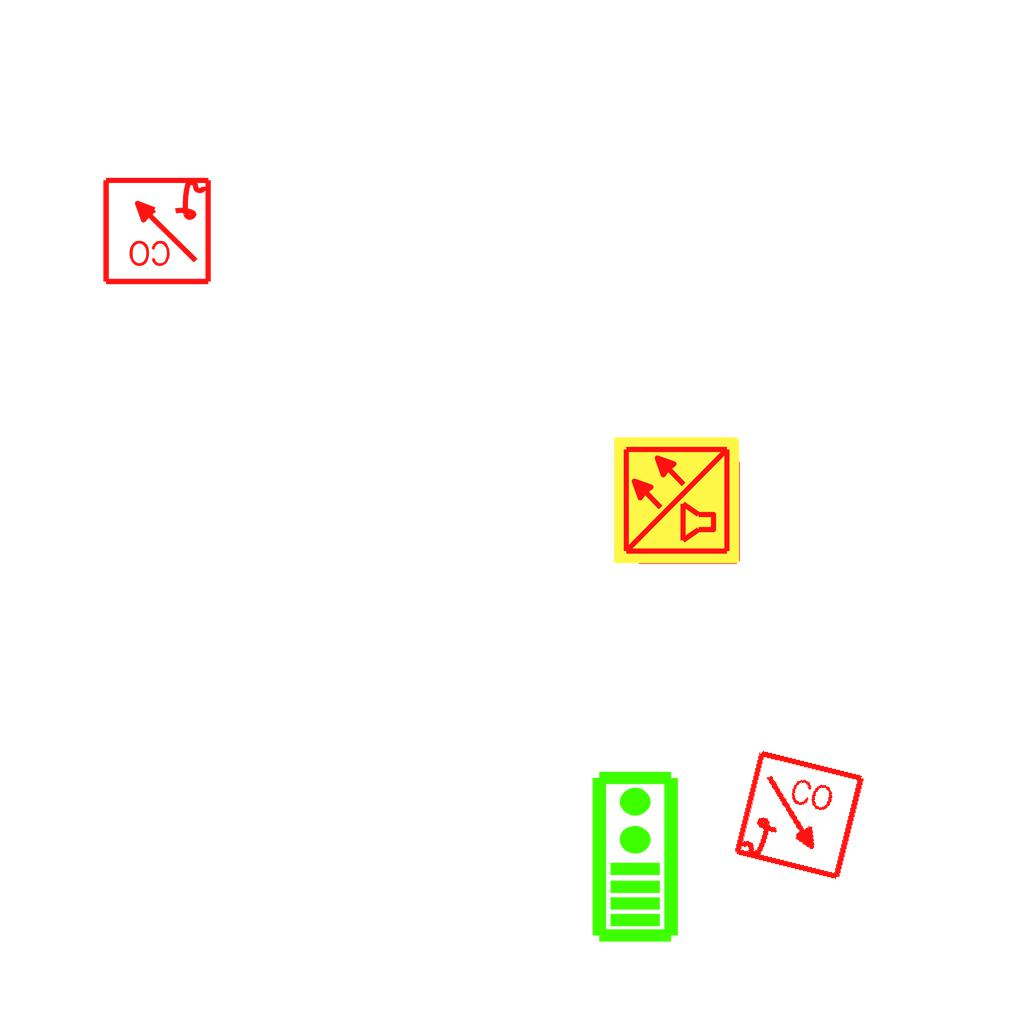Gegensprechanlage_mit_Video: (586, 768, 681, 944)
OKW_Multisensormelder_(Kombination_optischer_Rauch-Kahlenmonoxid_Waerme-Melder): (611, 434, 743, 566)
ROA_Rauchmelder_optisch_mit_Signalgeber_(Sockelsirene): (731, 748, 868, 885), (100, 173, 213, 286)
